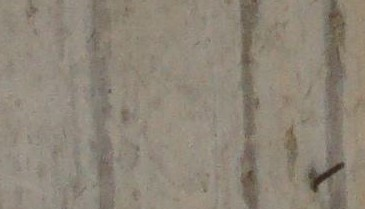Exposed reinforcement: (312, 161, 346, 189)
